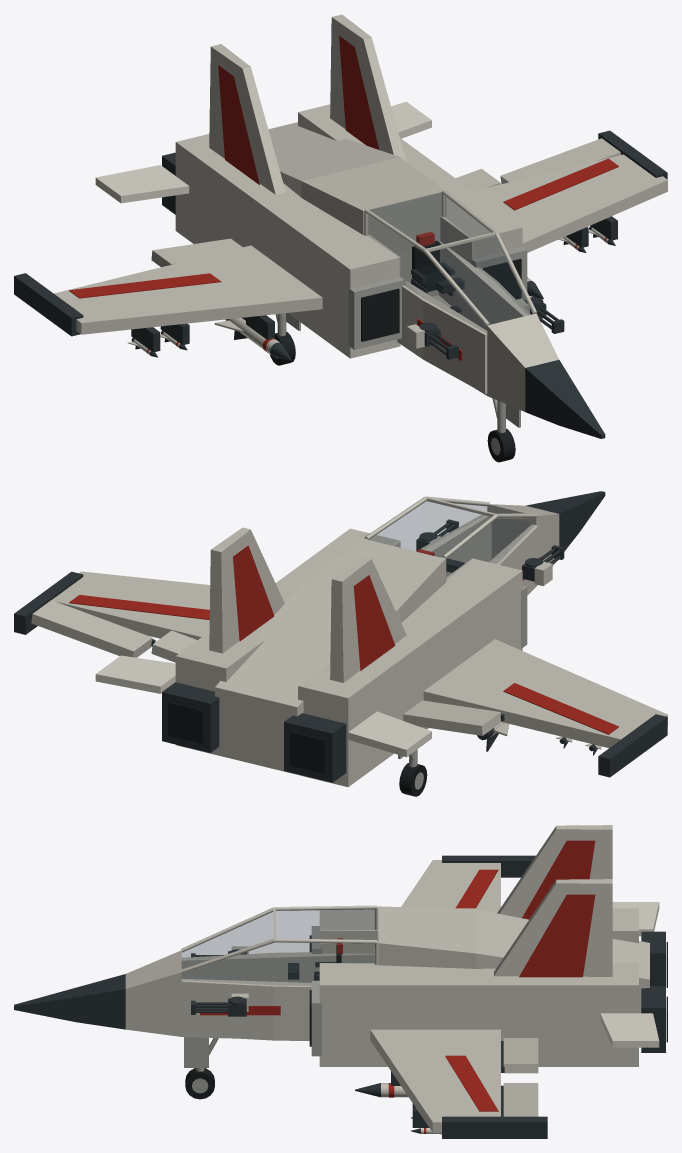
3 views of the same model, one above another, from view 1: azimuth 30°, elevation 25°; view 2: azimuth 150°, elevation 25°; view 3: azimuth 270°, elevation 25° (orthographic). The views are drawn at different scales.
Parts seen in each view (by area): view 1: jet-a-painted, jet-a-glazing, elevator-left-fleet-armor, breakaway-0-painted, aileron-right-painted, crew-chair-pilot-painted, flap-left-painted, store-left-large-painted, elevator-right-fleet-armor, breakaway-1-painted, gear-wheel-nose-0-0-painted; view 2: jet-a-painted, jet-a-glazing, aileron-right-painted, flap-left-painted, elevator-left-fleet-armor, elevator-right-fleet-armor, breakaway-0-painted, breakaway-1-painted, flap-right-painted, gear-wheel-left-0-0-painted, machine-gun-fixed-pitch-left-painted; view 3: jet-a-painted, jet-a-glazing, breakaway-1-painted, elevator-right-fleet-armor, flap-right-painted, aileron-right-painted, breakaway-0-painted, landing-gear-nose-painted, gear-wheel-nose-0-0-painted, elevator-left-fleet-armor, store-right-large-painted.
Part boxes in pixels (<box>): jet-a-painted: <box>54,14,667,438</box>; jet-a-glazing: <box>368,193,532,332</box>; elevator-left-fleet-armor: <box>95,165,189,203</box>; breakaway-0-painted: <box>14,273,83,336</box>; aileron-right-painted: <box>500,138,621,184</box>; crew-chair-pilot-painted: <box>411,232,464,312</box>; flap-left-painted: <box>151,238,242,267</box>; store-left-large-painted: <box>214,317,291,360</box>; elevator-right-fleet-armor: <box>391,101,431,138</box>; breakaway-1-painted: <box>598,130,667,179</box>; gear-wheel-nose-0-0-painted: <box>487,428,515,462</box>; jet-a-painted: <box>52,491,667,786</box>; jet-a-glazing: <box>369,500,534,578</box>; aileron-right-painted: <box>31,600,155,657</box>; flap-left-painted: <box>403,700,504,735</box>; elevator-left-fleet-armor: <box>348,711,431,757</box>; elevator-right-fleet-armor: <box>95,655,175,693</box>; breakaway-0-painted: <box>598,714,667,777</box>; breakaway-1-painted: <box>14,571,83,634</box>; flap-right-painted: <box>151,630,197,662</box>; gear-wheel-left-0-0-painted: <box>399,763,427,796</box>; machine-gun-fixed-pitch-left-painted: <box>522,561,552,586</box>; jet-a-painted: <box>14,825,667,1132</box>; jet-a-glazing: <box>182,909,376,985</box>; breakaway-1-painted: <box>442,1116,547,1138</box>; elevator-right-fleet-armor: <box>600,1013,659,1047</box>; flap-right-painted: <box>501,1038,538,1073</box>; aileron-right-painted: <box>501,1083,538,1116</box>; breakaway-0-painted: <box>442,855,535,877</box>; landing-gear-nose-painted: <box>184,1037,218,1071</box>; gear-wheel-nose-0-0-painted: <box>185,1068,214,1099</box>; elevator-left-fleet-armor: <box>612,902,659,936</box>; store-right-large-painted: <box>355,1083,408,1097</box>.
Size of the model in its own units: 71.03 by 30.13 by 73.68.
